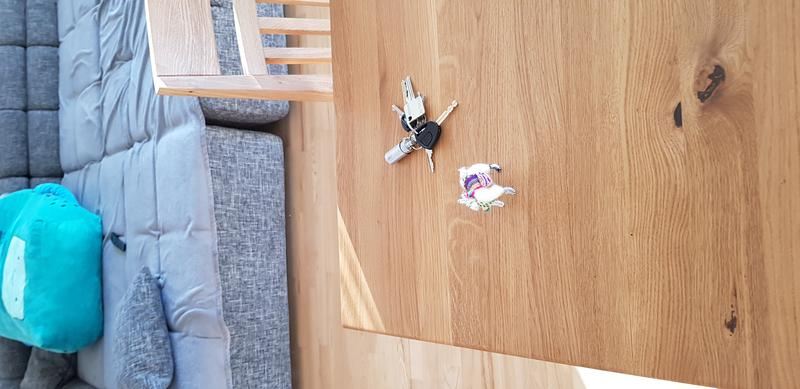Horse-Toy: (442, 159, 522, 224)
